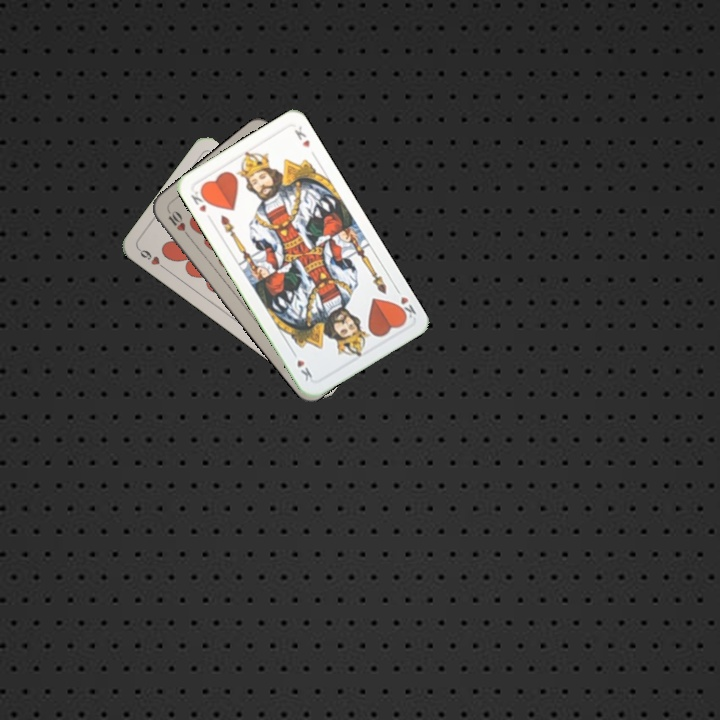H10: (164, 206, 193, 241)
H9: (135, 244, 170, 273)
HK: (391, 283, 419, 323), (186, 185, 212, 215)
